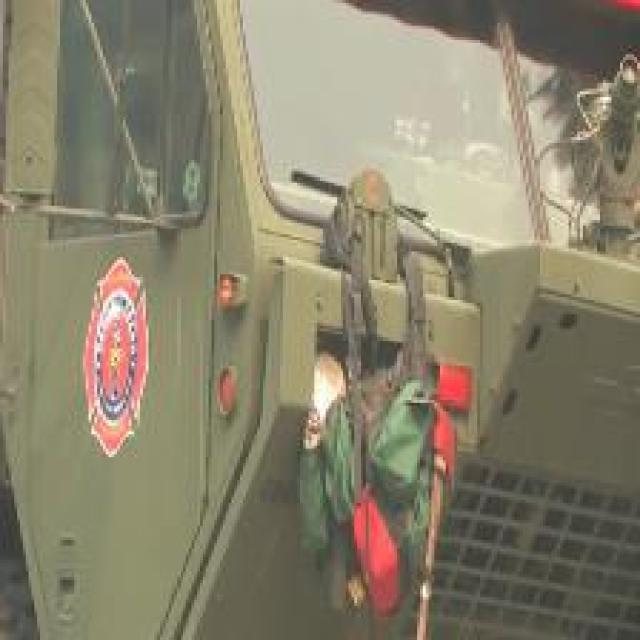other: (341, 333, 488, 612), (78, 247, 164, 456)
